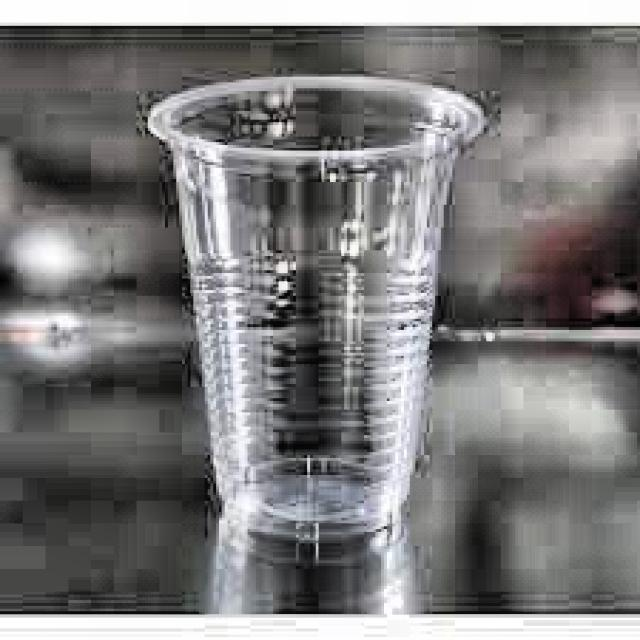plastic cup: (149, 76, 484, 541)
